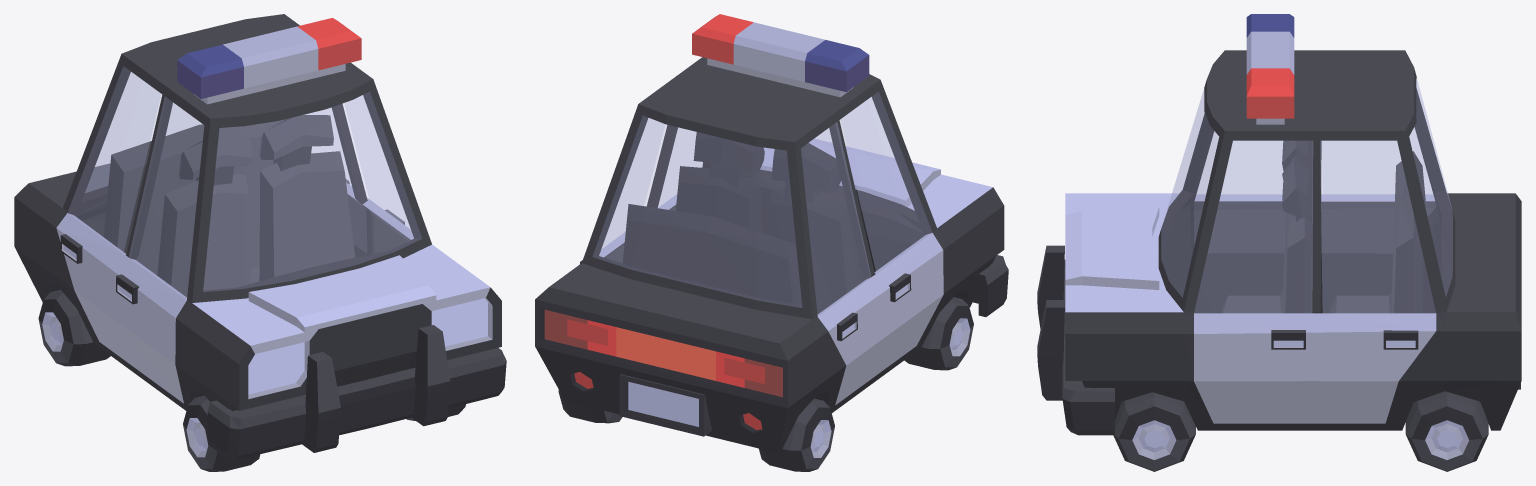
The model's file is police-cruiser-01.glb.
The picture shows the model from 3 angles, left to right: view 1: azimuth 30°, elevation 25°; view 2: azimuth 150°, elevation 25°; view 3: azimuth 270°, elevation 25°; orthographic projection. The views are drawn at different scales.
Visible parts, largest first — view 1: Car01_2_Police, Car01_2_AdF.001, Car01_2_DR1.001, Car01_2_DR2.001, Car01_2_Police_AdT, Car01_2_DL1.001, Car01_2_WhBR.001, Car01_2_WhFR.001, Car01_2_DL2.001; view 2: Car01_2_Police, Car01_2_DR1.001, Car01_2_DR2.001, Car01_2_Police_AdT, Car01_2_WhBR.001, Car01_2_DL2.001, Car01_2_WhFR.001, Car01_2_DL1.001, Car01_2_AdF.001, Car01_2_WhBL.001; view 3: Car01_2_Police, Car01_2_DL1.001, Car01_2_DL2.001, Car01_2_DR2.001, Car01_2_DR1.001, Car01_2_AdF.001, Car01_2_Police_AdT, Car01_2_WhBL.001, Car01_2_WhFL.001.
Part boxes in pixels (left/top/right/bottom): Car01_2_Police: left=14, top=14, right=501, bottom=410; Car01_2_AdF.001: left=207, top=325, right=506, bottom=459; Car01_2_DR1.001: left=116, top=97, right=203, bottom=403; Car01_2_DR2.001: left=56, top=66, right=160, bottom=368; Car01_2_Police_AdT: left=177, top=18, right=361, bottom=104; Car01_2_DL1.001: left=345, top=95, right=413, bottom=253; Car01_2_WhBR.001: left=38, top=290, right=110, bottom=366; Car01_2_WhFR.001: left=183, top=395, right=260, bottom=471; Car01_2_DL2.001: left=306, top=108, right=368, bottom=257; Car01_2_Police: left=535, top=57, right=1004, bottom=452; Car01_2_DR1.001: left=841, top=92, right=943, bottom=378; Car01_2_DR2.001: left=801, top=122, right=888, bottom=405; Car01_2_Police_AdT: left=692, top=14, right=869, bottom=97; Car01_2_WhBR.001: left=759, top=398, right=834, bottom=471; Car01_2_DL2.001: left=580, top=118, right=664, bottom=263; Car01_2_WhFR.001: left=904, top=297, right=973, bottom=370; Car01_2_DL1.001: left=658, top=128, right=702, bottom=210; Car01_2_AdF.001: left=973, top=255, right=1008, bottom=316; Car01_2_WhBL.001: left=558, top=390, right=622, bottom=423; Car01_2_Police: left=1065, top=50, right=1521, bottom=430; Car01_2_DL1.001: left=1194, top=141, right=1312, bottom=423; Car01_2_DL2.001: left=1309, top=141, right=1436, bottom=423; Car01_2_DR2.001: left=1320, top=128, right=1435, bottom=312; Car01_2_DR1.001: left=1194, top=132, right=1285, bottom=312; Car01_2_AdF.001: left=1037, top=245, right=1114, bottom=435; Car01_2_Police_AdT: left=1246, top=14, right=1294, bottom=124; Car01_2_WhBL.001: left=1405, top=391, right=1488, bottom=471; Car01_2_WhFL.001: left=1113, top=392, right=1195, bottom=471.
Bounding box in the file's own units: 2.56 × 3.17 × 3.83.
6 materials, 6 textured.
